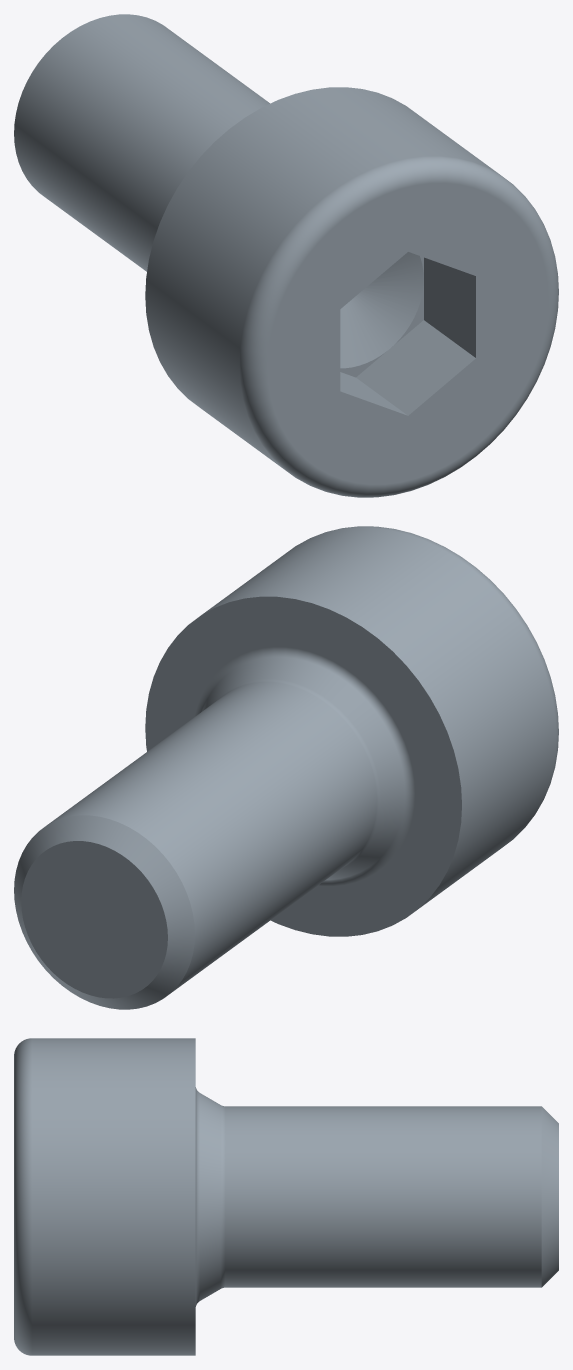
File: Hex_socket_head_cap_screw_M4x0_70_x_8.obj
3 views of the same model, one above another, from view 1: azimuth 30°, elevation 25°; view 2: azimuth 150°, elevation 25°; view 3: azimuth 270°, elevation 25° (orthographic). The views are drawn at different scales.
Visible parts, largest first — view 1: mesh3010, mesh3008, mesh3003, mesh3009, mesh3018, mesh3016, mesh3011, mesh3015; view 2: mesh3003, mesh3008, mesh3007, mesh3001, mesh3002, mesh3005, mesh3006, mesh3009, mesh3004; view 3: mesh3003, mesh3008, mesh3009, mesh3005, mesh3002, mesh3006, mesh3004.
Boxes of the visible parts, x1,y1,x2,y2 form: mesh3010: [268, 183, 548, 484]; mesh3008: [145, 87, 498, 467]; mesh3003: [14, 14, 269, 271]; mesh3009: [239, 156, 558, 497]; mesh3018: [340, 252, 423, 368]; mesh3016: [356, 320, 475, 415]; mesh3011: [424, 257, 475, 357]; mesh3015: [340, 372, 407, 415]; mesh3003: [47, 682, 376, 993]; mesh3008: [202, 527, 556, 910]; mesh3007: [145, 596, 461, 936]; mesh3001: [21, 841, 167, 998]; mesh3002: [14, 815, 194, 1009]; mesh3005: [202, 657, 404, 879]; mesh3006: [194, 647, 415, 886]; mesh3009: [310, 526, 558, 827]; mesh3004: [217, 678, 380, 869]; mesh3003: [225, 1106, 541, 1287]; mesh3008: [32, 1038, 195, 1355]; mesh3009: [14, 1038, 32, 1355]; mesh3005: [200, 1093, 220, 1300]; mesh3002: [541, 1106, 558, 1287]; mesh3006: [195, 1087, 200, 1306]; mesh3004: [220, 1105, 225, 1288].
Size of the model in its own units: 0.007 by 0.00699 by 0.012.
